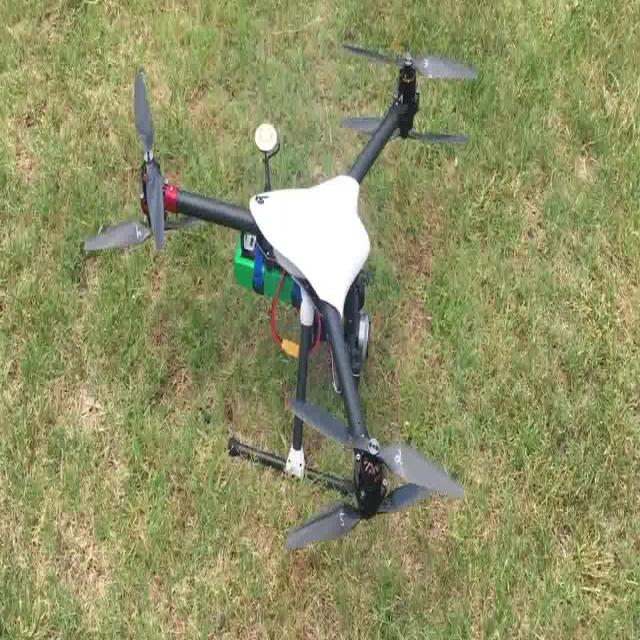drones: (80, 22, 483, 559)
